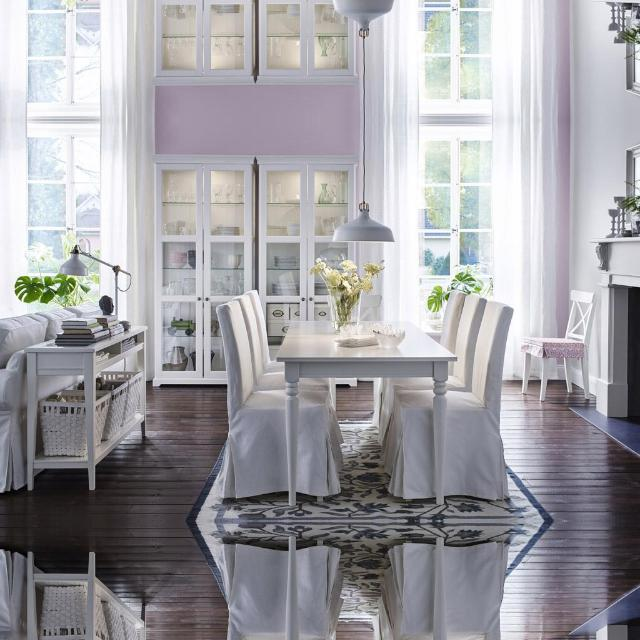obstacle: (216, 284, 514, 508), (0, 292, 164, 498), (216, 534, 513, 640), (0, 544, 164, 640), (517, 285, 601, 403), (517, 638, 601, 640)
